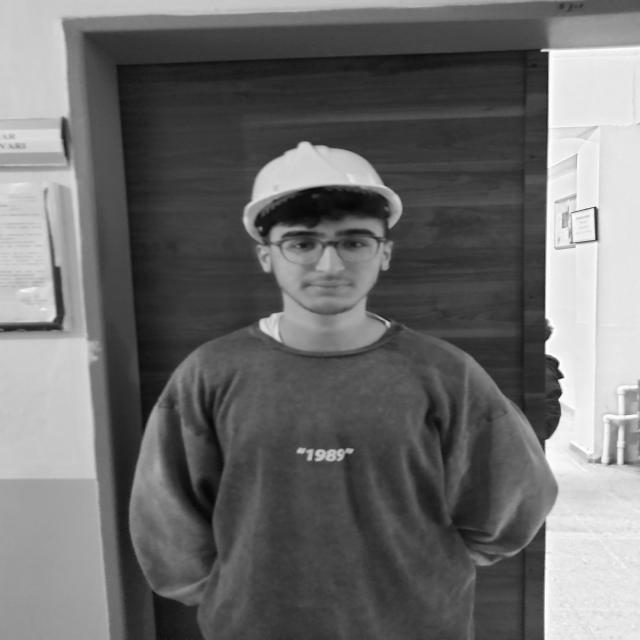construction helmet: (241, 142, 404, 245)
